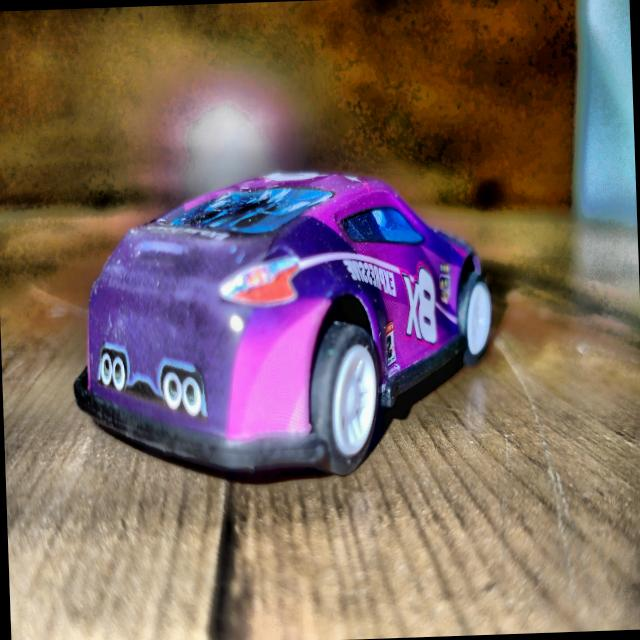Car: (67, 166, 496, 484)
